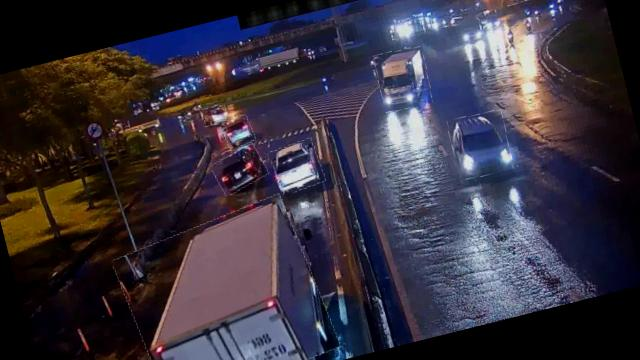Car: (446, 108, 515, 182), (269, 138, 325, 195), (210, 144, 270, 195), (220, 115, 256, 150), (200, 104, 230, 128)
Truck: (112, 195, 339, 360), (372, 44, 434, 114)
